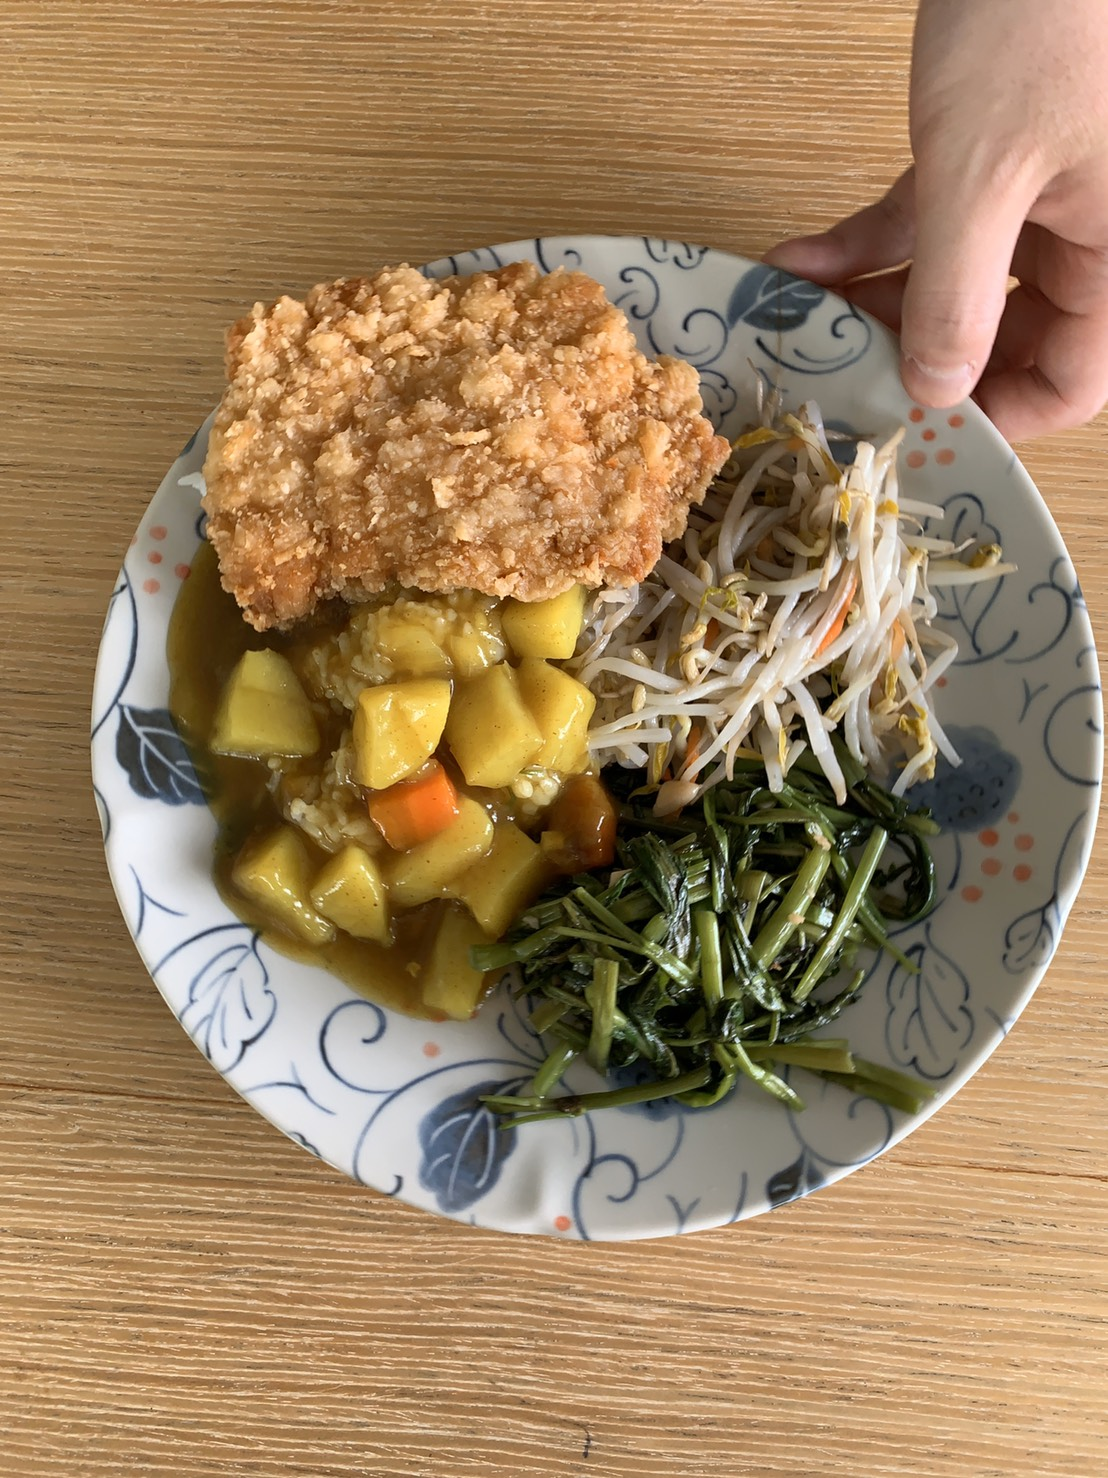curry: (204, 634, 602, 901)
fried_chicken: (211, 261, 709, 609)
mung_bean_sprouts: (654, 476, 925, 751)
water_spinach: (548, 784, 921, 1103)
